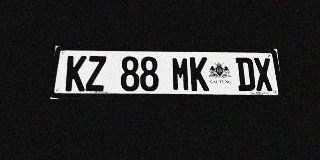8: (120, 56, 140, 91), (140, 56, 159, 91)
D: (235, 57, 256, 91)
K: (65, 56, 87, 91), (190, 57, 209, 91)
M: (171, 57, 190, 91)
X: (253, 58, 274, 91)
Z: (85, 56, 106, 91)
